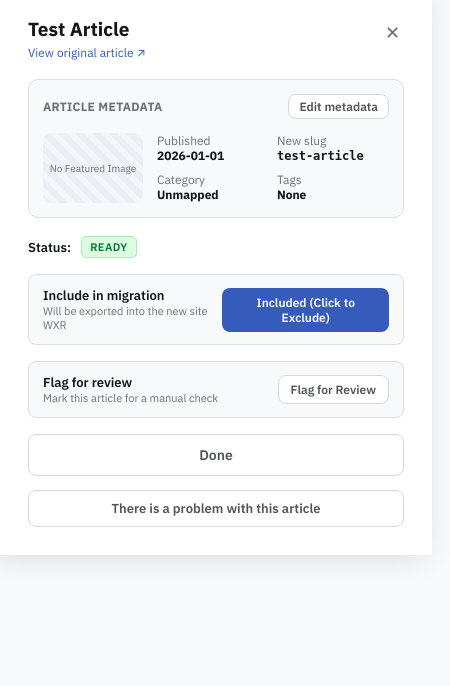
Test: ArticleSidebar metadata edit › cancelling does not save and restores the read-only view
Click the button "Edit metadata": (339, 106) [288, 94, 389, 119]
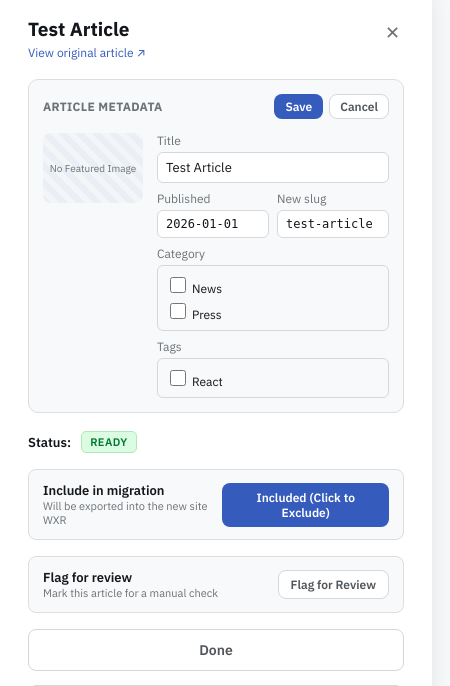
Click the button "Cancel": (359, 106) [329, 94, 389, 119]
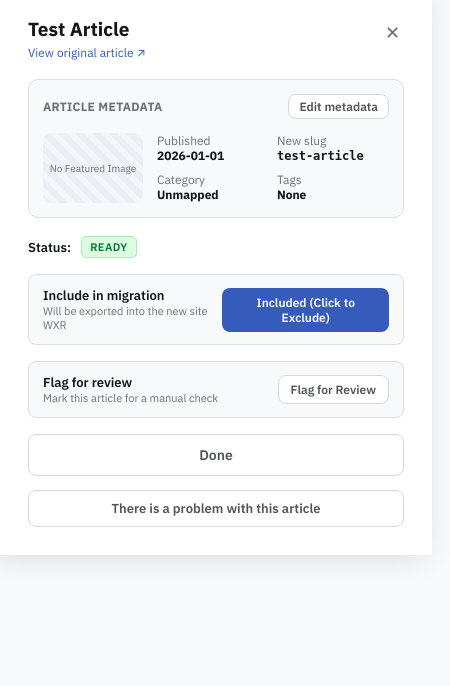
Check: the button "Edit metadata" is shown, box [288, 94, 389, 119]
